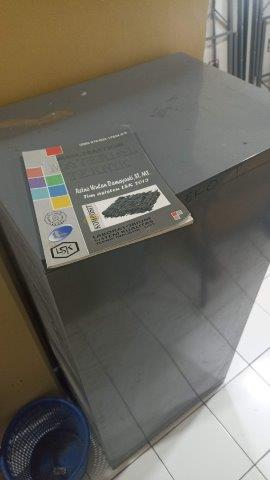kertas: (21, 123, 193, 271)
